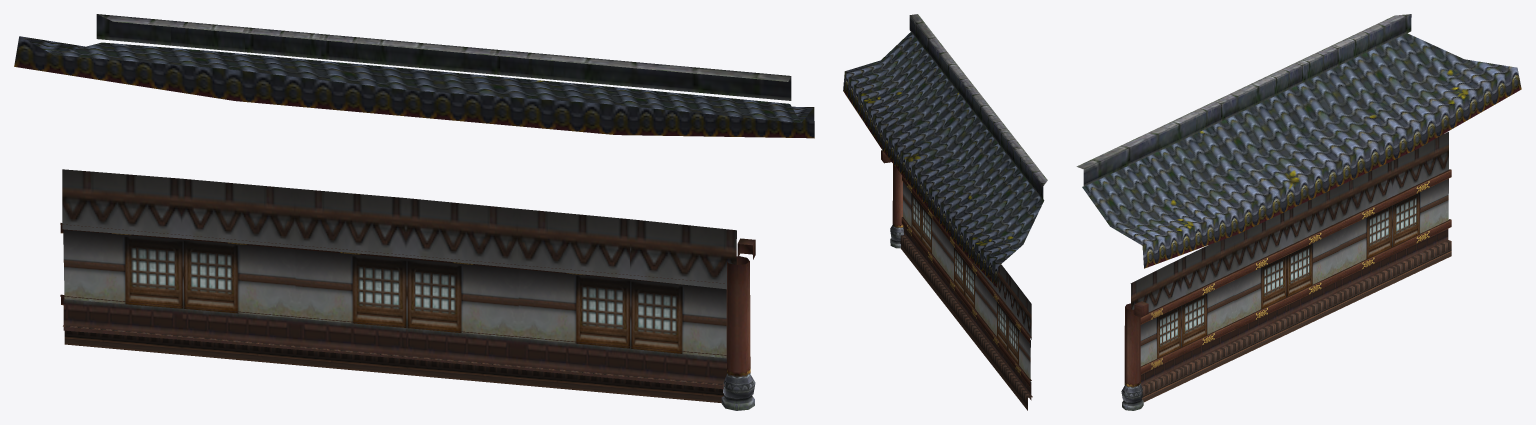
Rendered from S2_Build_XSC059_H2.FBX.
3 renders of one model, left to right at view 1: azimuth 30°, elevation 25°; view 2: azimuth 150°, elevation 25°; view 3: azimuth 270°, elevation 25°, orthographic. The views are drawn at different scales.
Visible parts, largest first — view 1: S2_Build_XSC059_H2; view 2: S2_Build_XSC059_H2; view 3: S2_Build_XSC059_H2.
Part boxes in pixels (x1,y1,x2,y2): S2_Build_XSC059_H2: (14,14,814,410); S2_Build_XSC059_H2: (843,14,1047,410); S2_Build_XSC059_H2: (1076,14,1521,410).
Bounding box in the file's own units: 4430 × 2787 × 4613.
